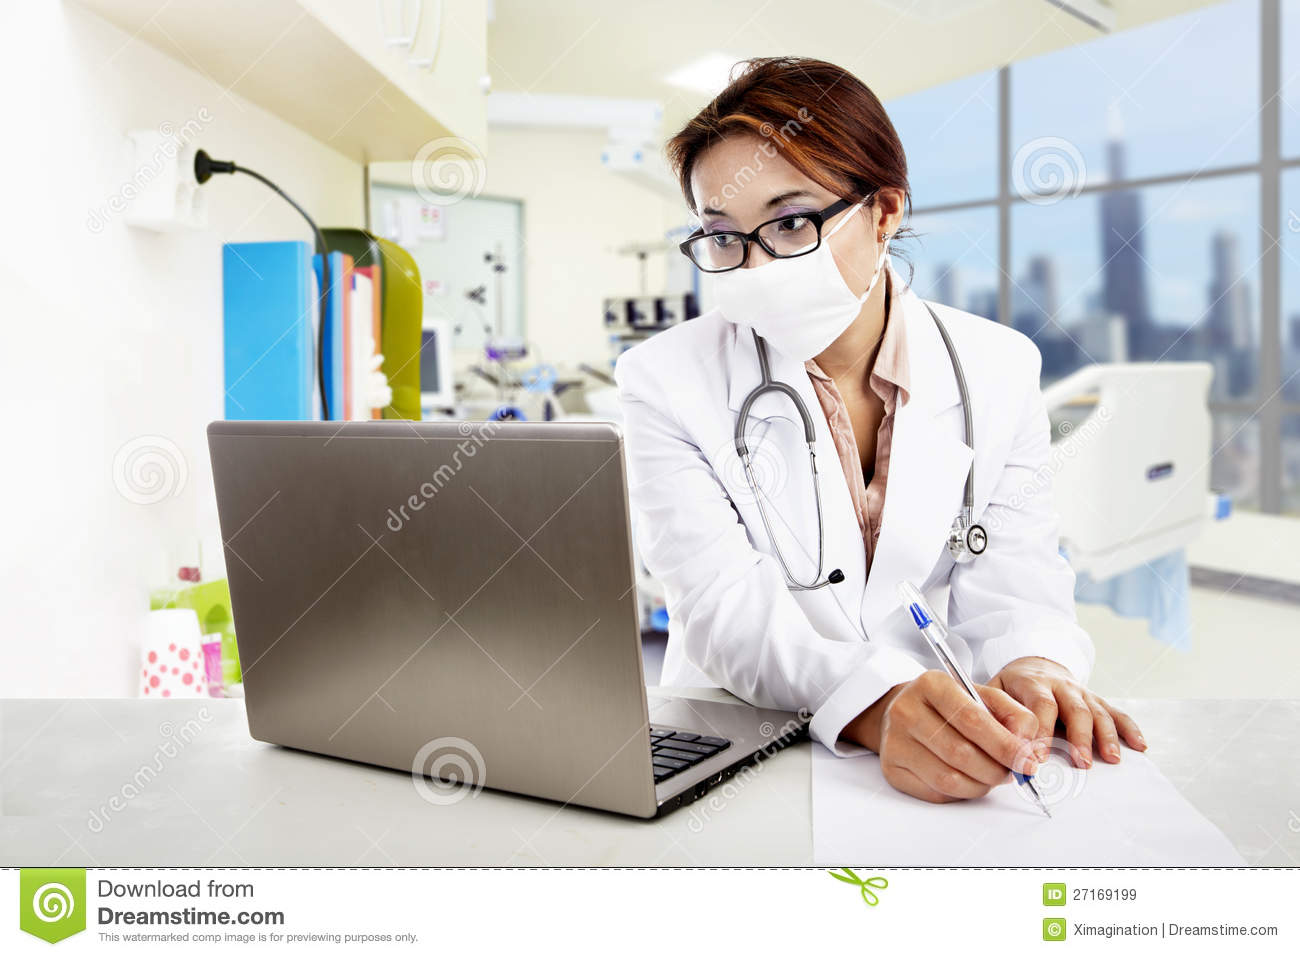mask: (710, 255, 878, 366)
